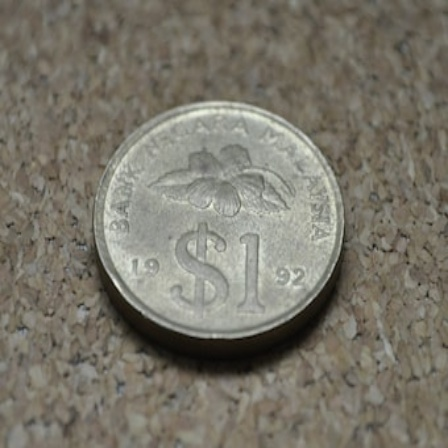1r: (90, 96, 347, 350)
